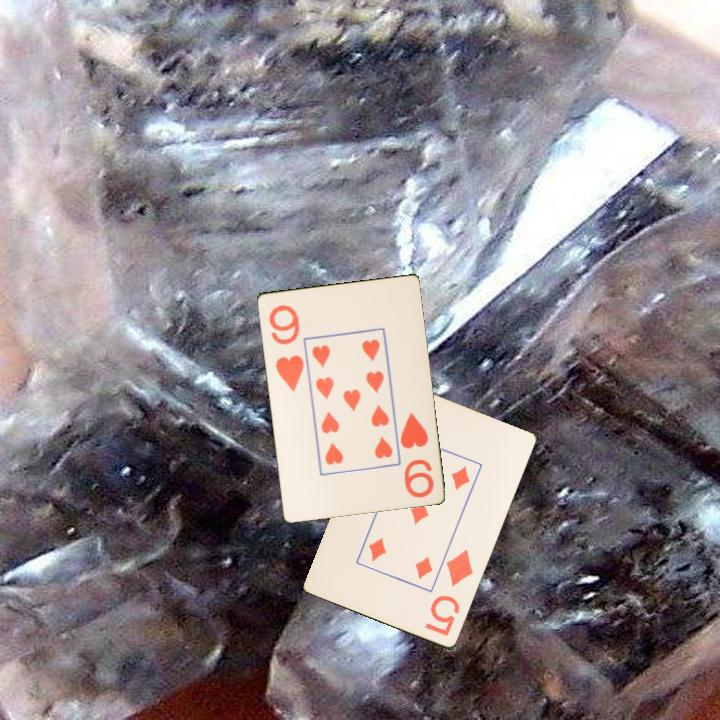5d: (422, 546, 477, 639)
9h: (265, 301, 306, 394), (396, 409, 437, 501)
